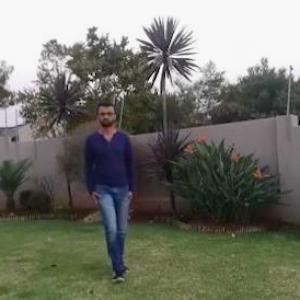follow: (89, 104, 136, 263)
